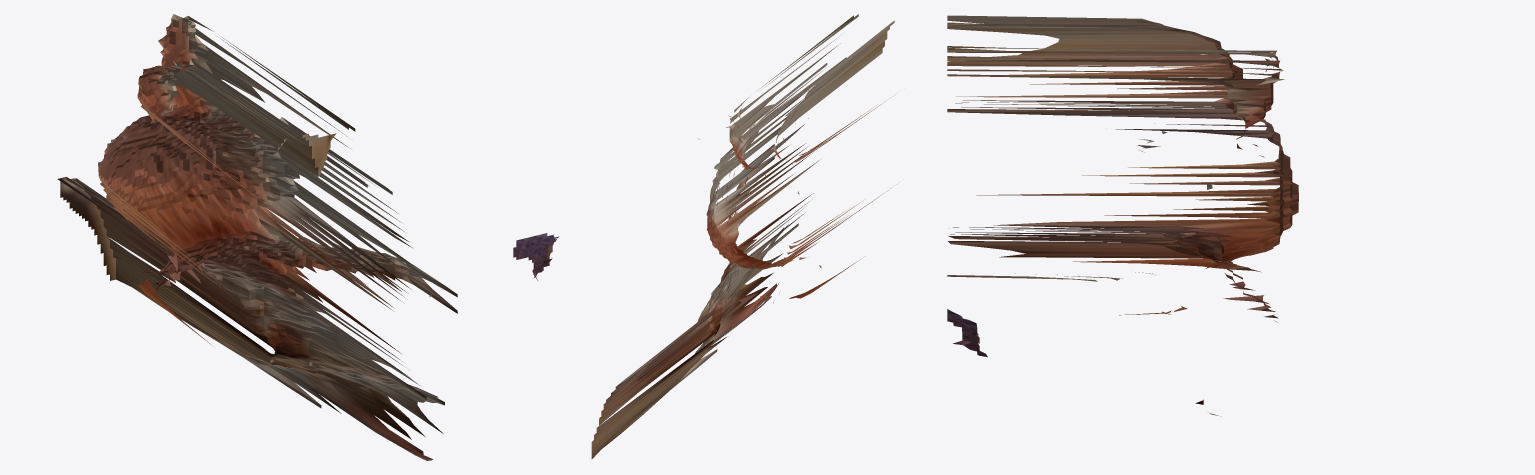
The model's file is frame_00333.glb.
The picture shows the model from 3 angles, left to right: view 1: azimuth 30°, elevation 25°; view 2: azimuth 150°, elevation 25°; view 3: azimuth 270°, elevation 25°; orthographic projection. The views are drawn at different scales.
Parts seen in each view (by area): view 1: geometry_0; view 2: geometry_0; view 3: geometry_0.
Boxes of the visible parts, x1=… form: geometry_0: x1=57, y1=14, x2=558, y2=460; geometry_0: x1=591, y1=14, x2=895, y2=459; geometry_0: x1=947, y1=15, x2=1298, y2=416.
Bounding box in the file's own units: 0.0981 × 0.1164 × 0.16.
Materials: 1 (1 with a texture image).
